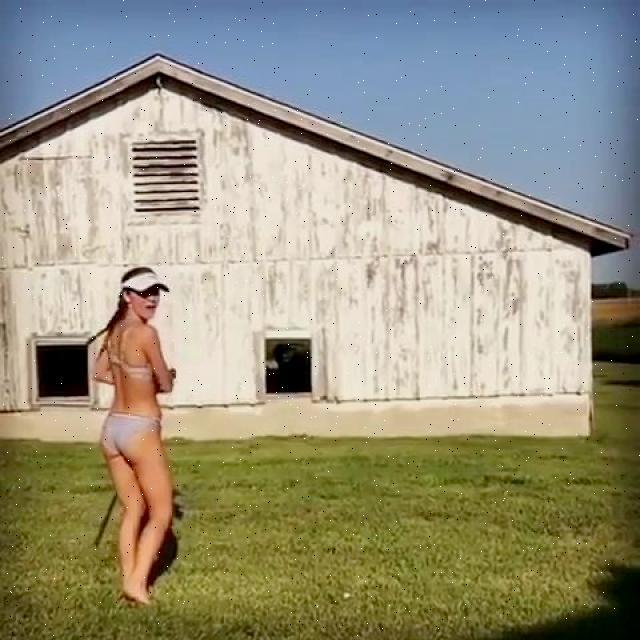golf club-handle: (92, 366, 181, 550)
golf club-head: (169, 368, 179, 379)
